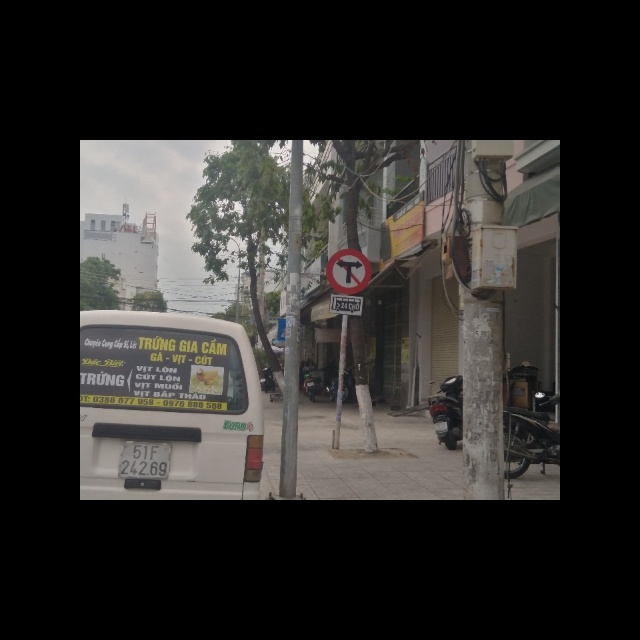Cấm rẽ trái và rẽ phải: (325, 248, 373, 295)
